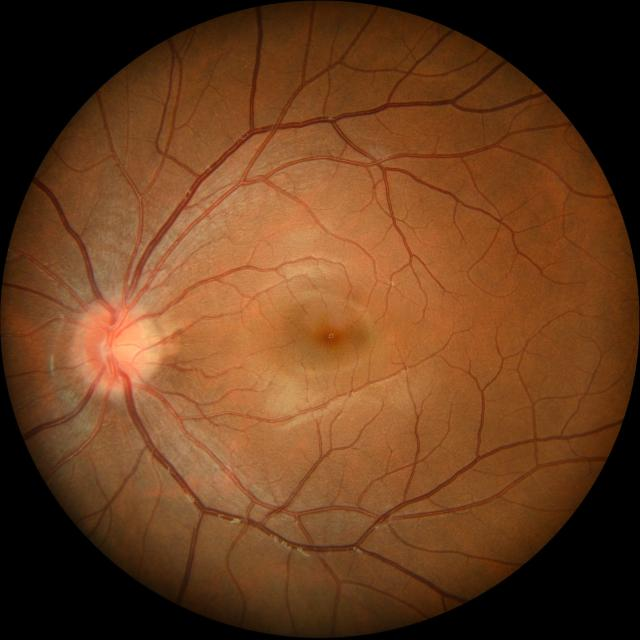OC: (105, 333, 135, 367)
OD: (78, 304, 150, 390)
